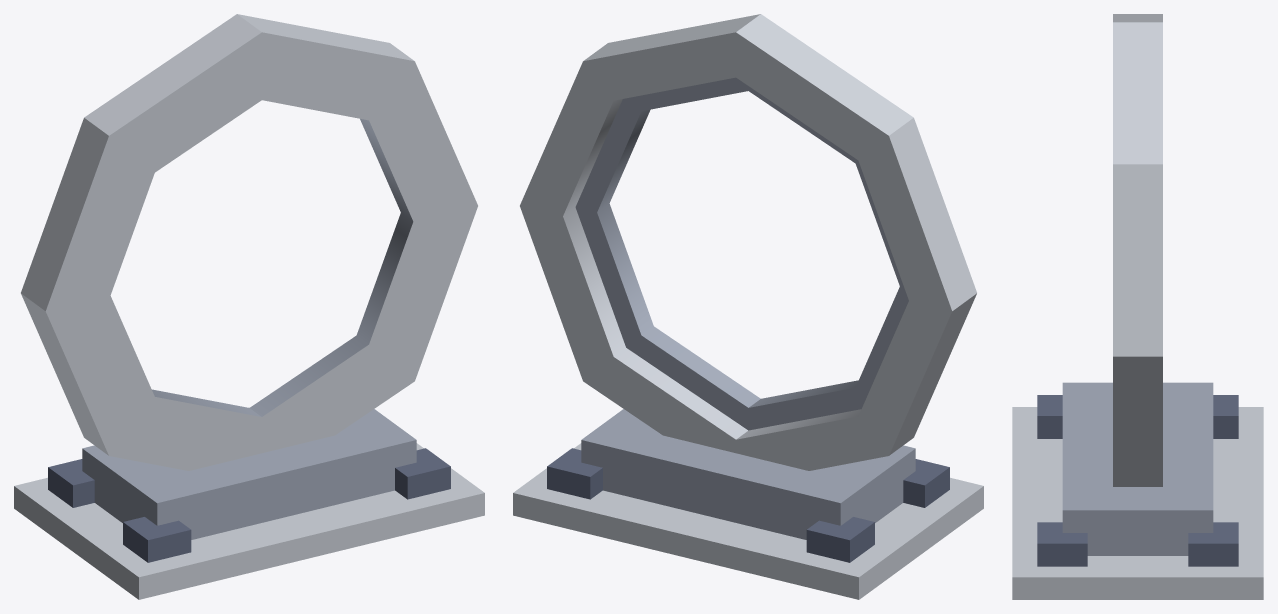
The model's file is gate_simple.glb.
3 views of the same model, side by side, from view 1: azimuth 30°, elevation 25°; view 2: azimuth 150°, elevation 25°; view 3: azimuth 270°, elevation 25° (orthographic).
Parts seen in each view (by area): view 1: gate_simple; view 2: gate_simple; view 3: gate_simple.
Boxes of the visible parts, box(x1,y1,x2,y2) form: gate_simple: box(14, 14, 484, 599); gate_simple: box(513, 14, 983, 599); gate_simple: box(1012, 14, 1263, 599).
Bounding box in the file's own units: 1 × 1.08 × 0.5.
